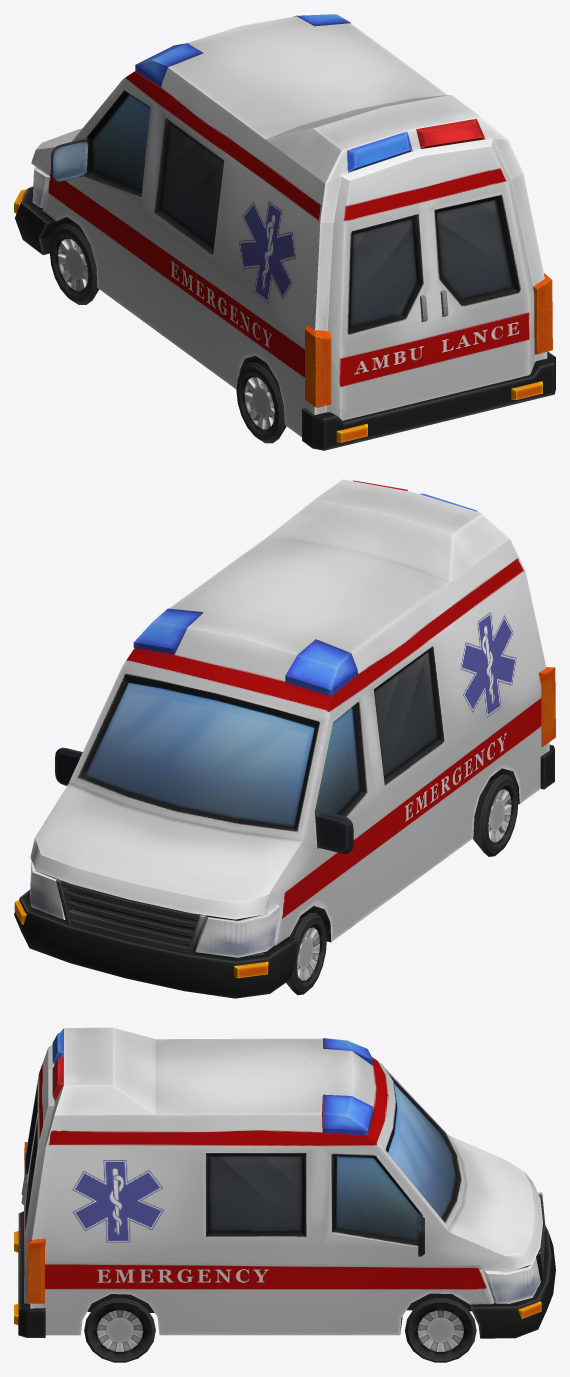
File: ambulance.fbx
3 renders of one model, top to bottom at view 1: azimuth 30°, elevation 25°; view 2: azimuth 150°, elevation 25°; view 3: azimuth 270°, elevation 25°, orthographic. The views are drawn at different scales.
Visible parts, largest first — view 1: ambulance:Ambulance; view 2: ambulance:Ambulance; view 3: ambulance:Ambulance.
Boxes of the visible parts, x1,y1,x2,y2 form: ambulance:Ambulance: (14,14,555,450); ambulance:Ambulance: (14,479,555,998); ambulance:Ambulance: (14,1027,555,1362).
Bounding box in the file's own units: 106 × 106 × 199.
Materials: 1 (1 with a texture image).
